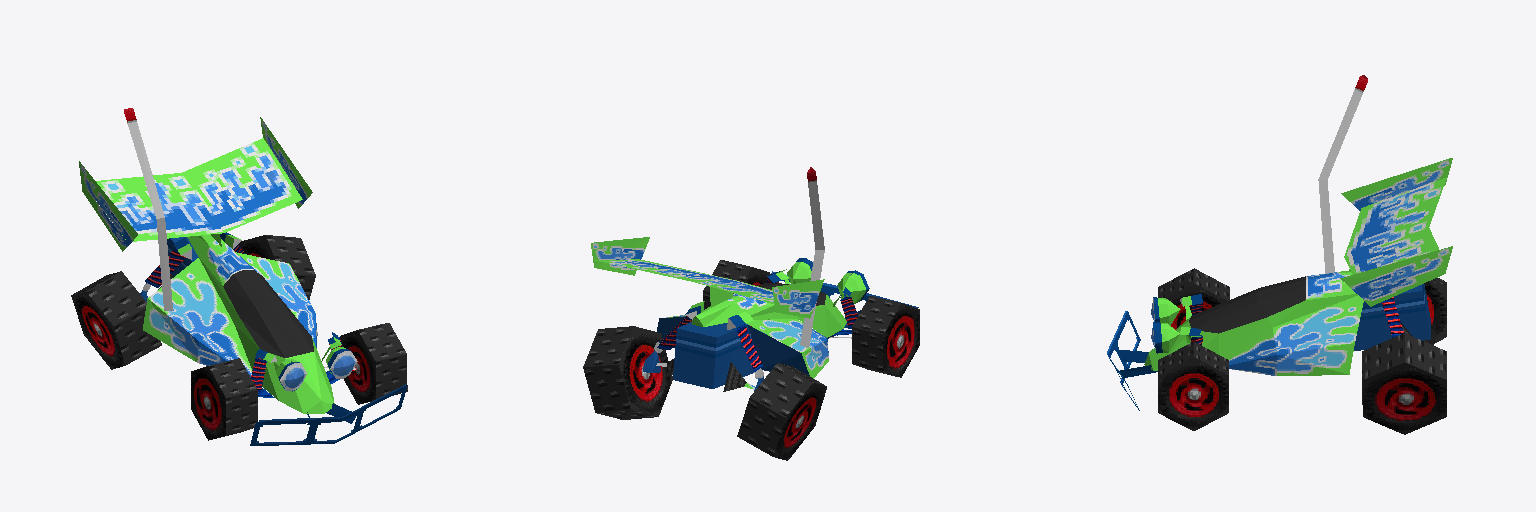
3 renders of one model, left to right at view 1: azimuth 30°, elevation 25°; view 2: azimuth 150°, elevation 25°; view 3: azimuth 270°, elevation 25°, orthographic.
Visible parts, largest first — view 1: RC; view 2: RC; view 3: RC.
Boxes of the visible parts, <box> form: RC: <box>71,108,407,445</box>; RC: <box>583,167,919,460</box>; RC: <box>1107,75,1452,434</box>.
Size of the model in its own units: 5.18 by 6.42 by 7.24.
Materials: 4 (4 with a texture image).